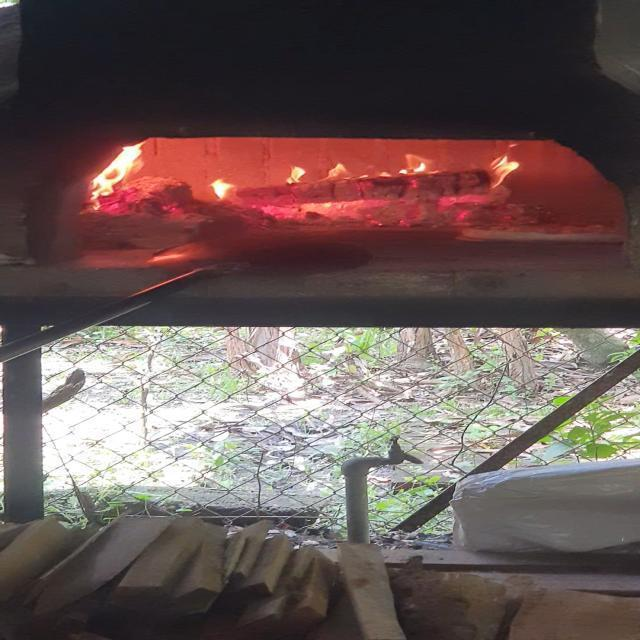smoke: (88, 141, 146, 210), (480, 149, 526, 200), (379, 153, 449, 182), (201, 162, 240, 214), (280, 152, 316, 188), (322, 160, 352, 184)
